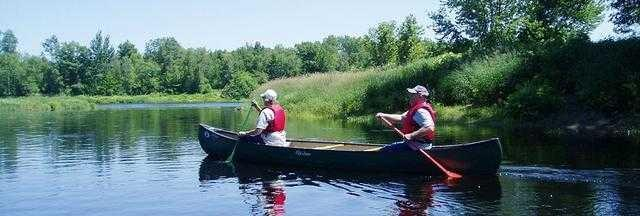kayak: (198, 123, 504, 178)
